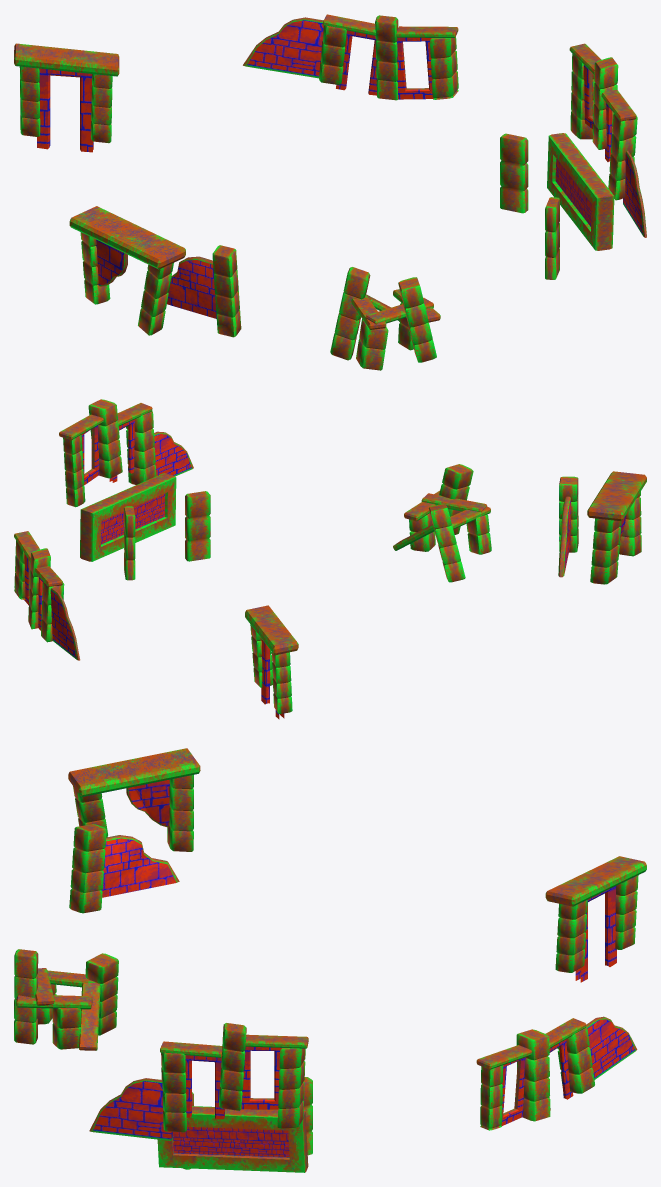
Rendered from Ruins Misc.fbx.
3 views of the same model, one above another, from view 1: azimuth 30°, elevation 25°; view 2: azimuth 150°, elevation 25°; view 3: azimuth 270°, elevation 25° (orthographic). The views are drawn at different scales.
Visible parts, largest first — view 1: Ruins Geyser Window, Ruins Cave, Ruins Arch, Ruins Cliff Window, Ruins Wall 2, Ruins Henge, Ruins Wall; view 2: Ruins Cliff Window, Ruins Cave, Ruins Henge, Ruins Wall 2, Ruins Geyser Window, Ruins Arch, Ruins Wall; view 3: Ruins Cliff Window, Ruins Geyser Window, Ruins Cave, Ruins Henge, Ruins Wall 2, Ruins Arch, Ruins Wall.
Boxes of the visible parts, bbox=[...] form: Ruins Geyser Window: bbox=[243, 14, 458, 100]; Ruins Cave: bbox=[500, 133, 614, 279]; Ruins Arch: bbox=[14, 43, 119, 152]; Ruins Cliff Window: bbox=[569, 43, 646, 237]; Ruins Wall 2: bbox=[69, 206, 185, 335]; Ruins Henge: bbox=[330, 267, 440, 370]; Ruins Wall: bbox=[167, 245, 241, 337]; Ruins Cliff Window: bbox=[59, 399, 193, 507]; Ruins Cave: bbox=[80, 473, 210, 580]; Ruins Henge: bbox=[393, 464, 491, 582]; Ruins Wall 2: bbox=[587, 471, 646, 584]; Ruins Geyser Window: bbox=[14, 531, 80, 660]; Ruins Arch: bbox=[245, 605, 298, 719]; Ruins Wall: bbox=[558, 476, 578, 577]; Ruins Cliff Window: bbox=[89, 1023, 308, 1140]; Ruins Geyser Window: bbox=[476, 1016, 637, 1130]; Ruins Cave: bbox=[157, 1077, 312, 1172]; Ruins Henge: bbox=[14, 949, 118, 1050]; Ruins Wall 2: bbox=[68, 748, 200, 851]; Ruins Arch: bbox=[545, 856, 646, 982]; Ruins Wall: bbox=[69, 824, 179, 913].
Size of the model in its own units: 6366 by 1830 by 5894.
